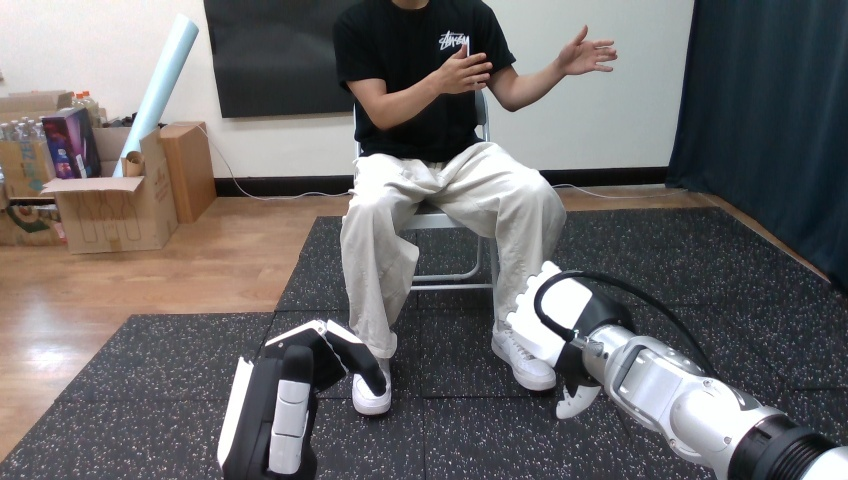left robot hand: (524, 271, 847, 479), (556, 25, 616, 75)
